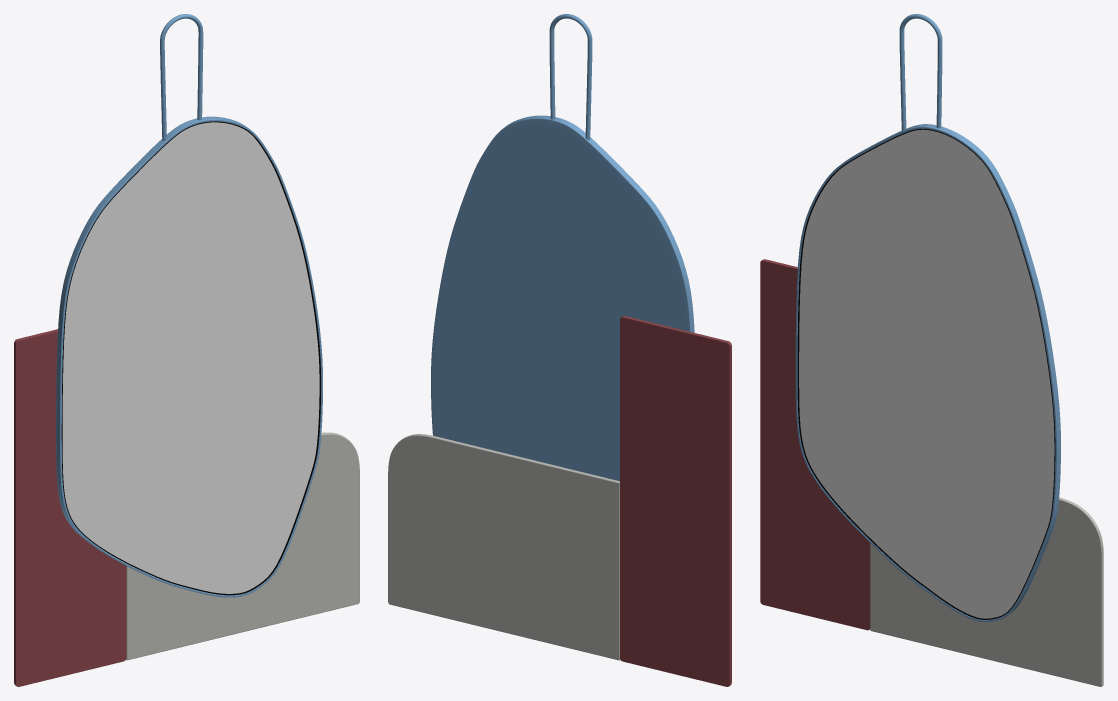
File: ikea_ps_2026_lustro_40622790.glb
3 renders of one model, left to right at view 1: azimuth 30°, elevation 25°; view 2: azimuth 150°, elevation 25°; view 3: azimuth 330°, elevation 25°, orthographic.
Visible parts, largest first — view 1: ikea_ps_2026_lustro_40622790; view 2: ikea_ps_2026_lustro_40622790; view 3: ikea_ps_2026_lustro_40622790.
Boxes of the visible parts, box(x1,y1,x2,y2) form: ikea_ps_2026_lustro_40622790: box(14, 14, 359, 686); ikea_ps_2026_lustro_40622790: box(388, 14, 731, 686); ikea_ps_2026_lustro_40622790: box(760, 14, 1103, 686).
Bounding box in the file's own units: 0.2157 × 0.38 × 0.0068.
